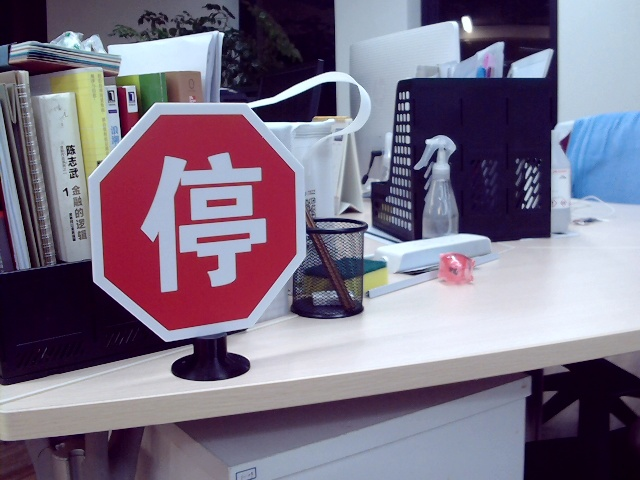stop: (135, 153, 266, 283)
